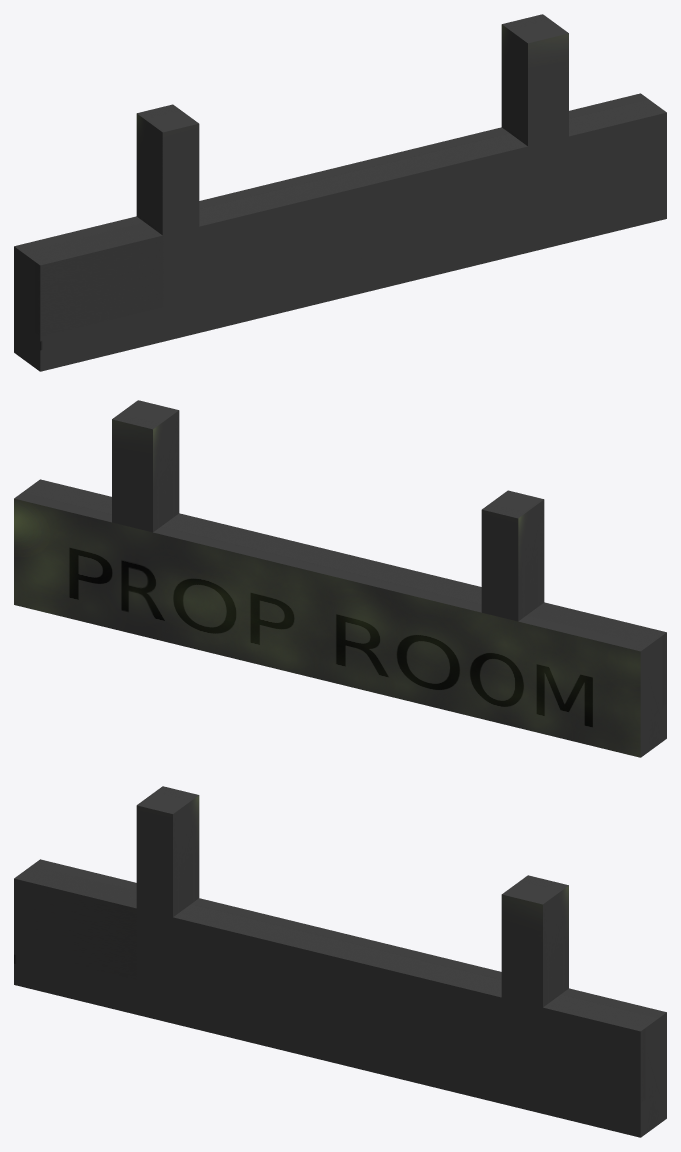
Rendered from PropRoomSign.fbx.
The picture shows the model from 3 angles, top to bottom: view 1: azimuth 30°, elevation 25°; view 2: azimuth 150°, elevation 25°; view 3: azimuth 330°, elevation 25°; orthographic projection.
Visible parts, largest first — view 1: Cube.001; view 2: Cube.001; view 3: Cube.001.
Boxes of the visible parts, x1=… form: Cube.001: x1=14, y1=14, x2=666, y2=371; Cube.001: x1=14, y1=400, x2=666, y2=757; Cube.001: x1=14, y1=786, x2=666, y2=1137.
Size of the model in its own units: 694 by 222 by 50.29.
